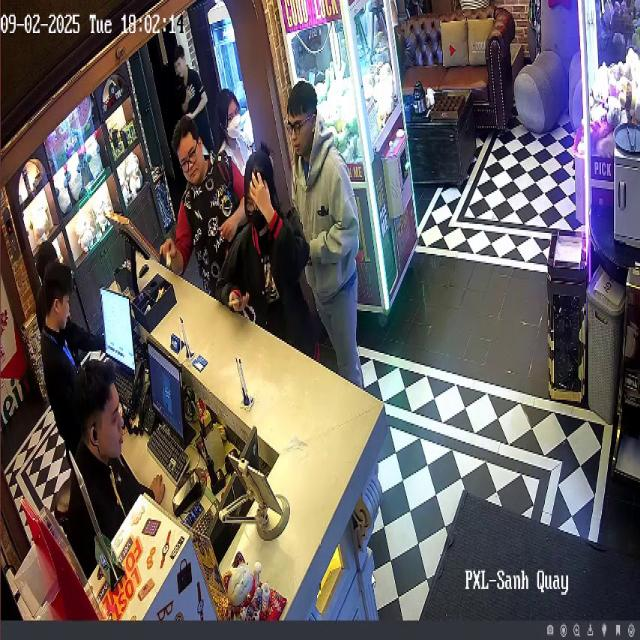khach: (282, 74, 370, 397), (227, 142, 309, 362), (159, 122, 242, 303), (167, 46, 223, 198), (207, 72, 269, 176)
nhan vien: (70, 351, 175, 574), (33, 257, 88, 479), (32, 222, 69, 327)
